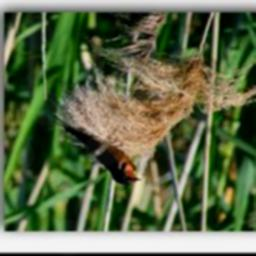Swallow: (55, 119, 146, 188)
